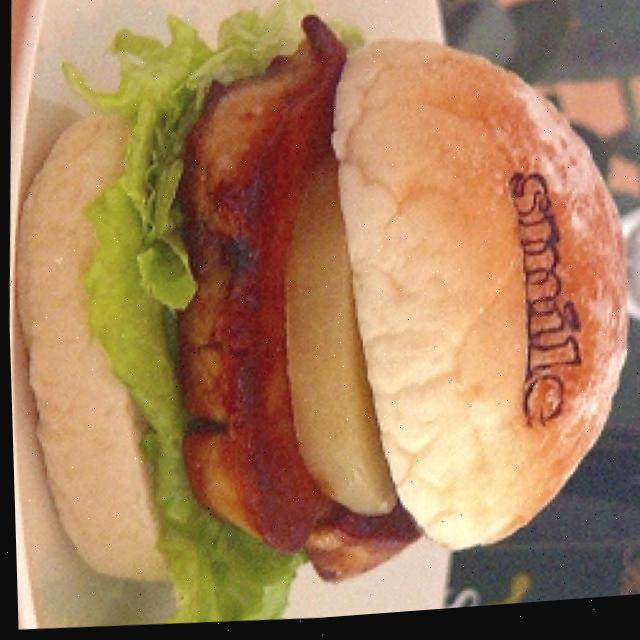汉堡快餐: (1, 1, 640, 634)
